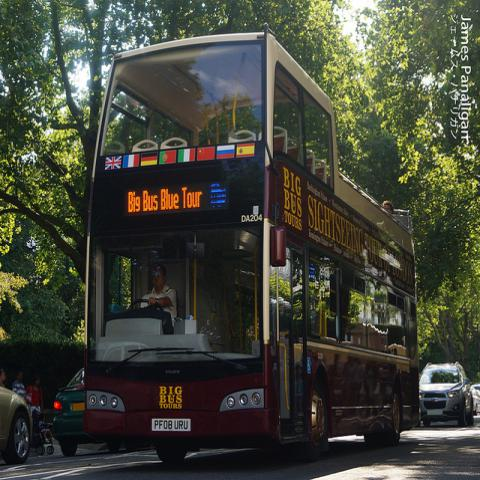bus: (85, 26, 421, 466)
car: (420, 361, 476, 430), (52, 368, 87, 458), (0, 386, 34, 462)
